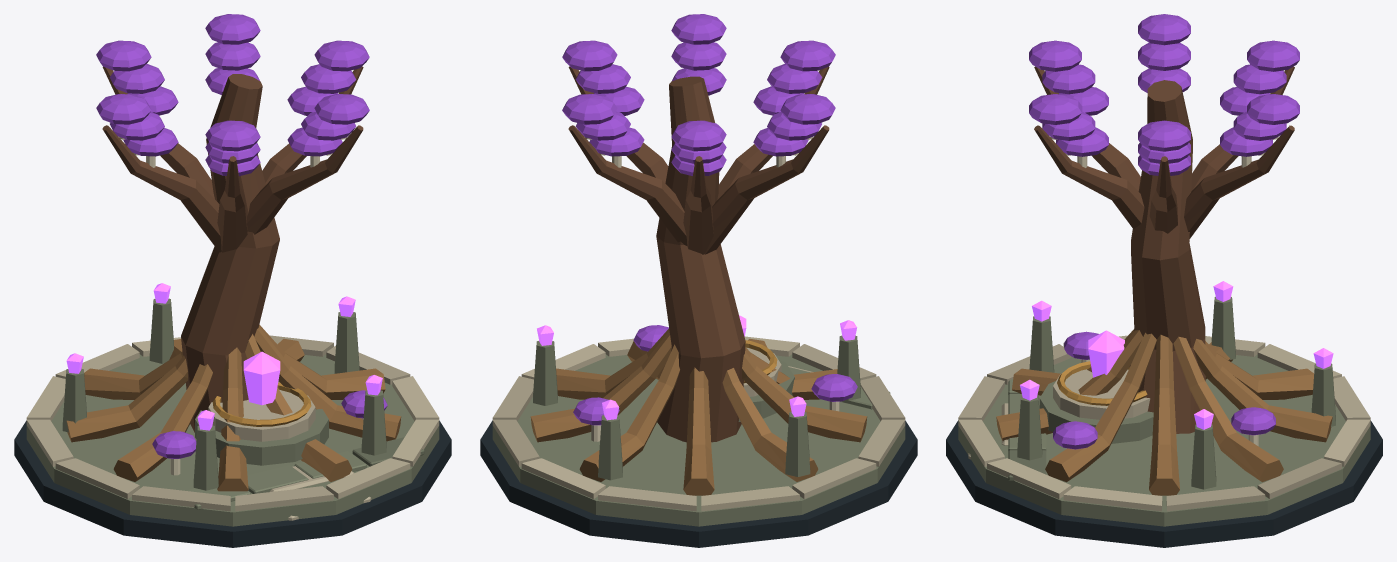
File: nature__praga__L10.glb
The picture shows the model from 3 angles, left to right: view 1: azimuth 30°, elevation 25°; view 2: azimuth 150°, elevation 25°; view 3: azimuth 270°, elevation 25°; orthographic projection.
Visible parts, largest first — view 1: structure, weapon; view 2: structure; view 3: structure, weapon.
Part boxes in pixels (x1,y1,x2,y2): structure: [14, 14, 451, 547]; weapon: [243, 351, 280, 405]; structure: [480, 14, 917, 547]; structure: [946, 14, 1382, 547]; weapon: [1088, 330, 1124, 377].
Size of the model in its own units: 0.8624 by 0.8354 by 0.8624.
